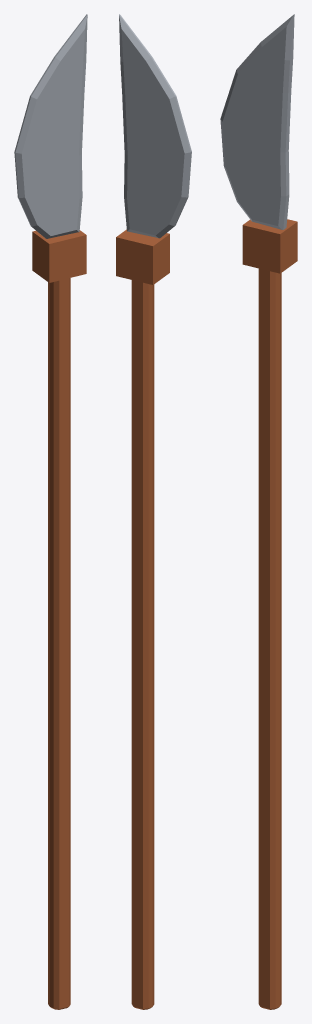
File: Spear_3.fbx
3 renders of one model, left to right at view 1: azimuth 30°, elevation 25°; view 2: azimuth 150°, elevation 25°; view 3: azimuth 330°, elevation 25°, orthographic.
Parts seen in each view (by area): view 1: Spear_3; view 2: Spear_3; view 3: Spear_3.
Boxes of the visible parts, x1=… form: Spear_3: x1=14, y1=14, x2=87, y2=1009; Spear_3: x1=116, y1=14, x2=191, y2=1009; Spear_3: x1=220, y1=14, x2=297, y2=1009.
Bounding box in the file's own units: 12.49 × 163 × 5.1.
